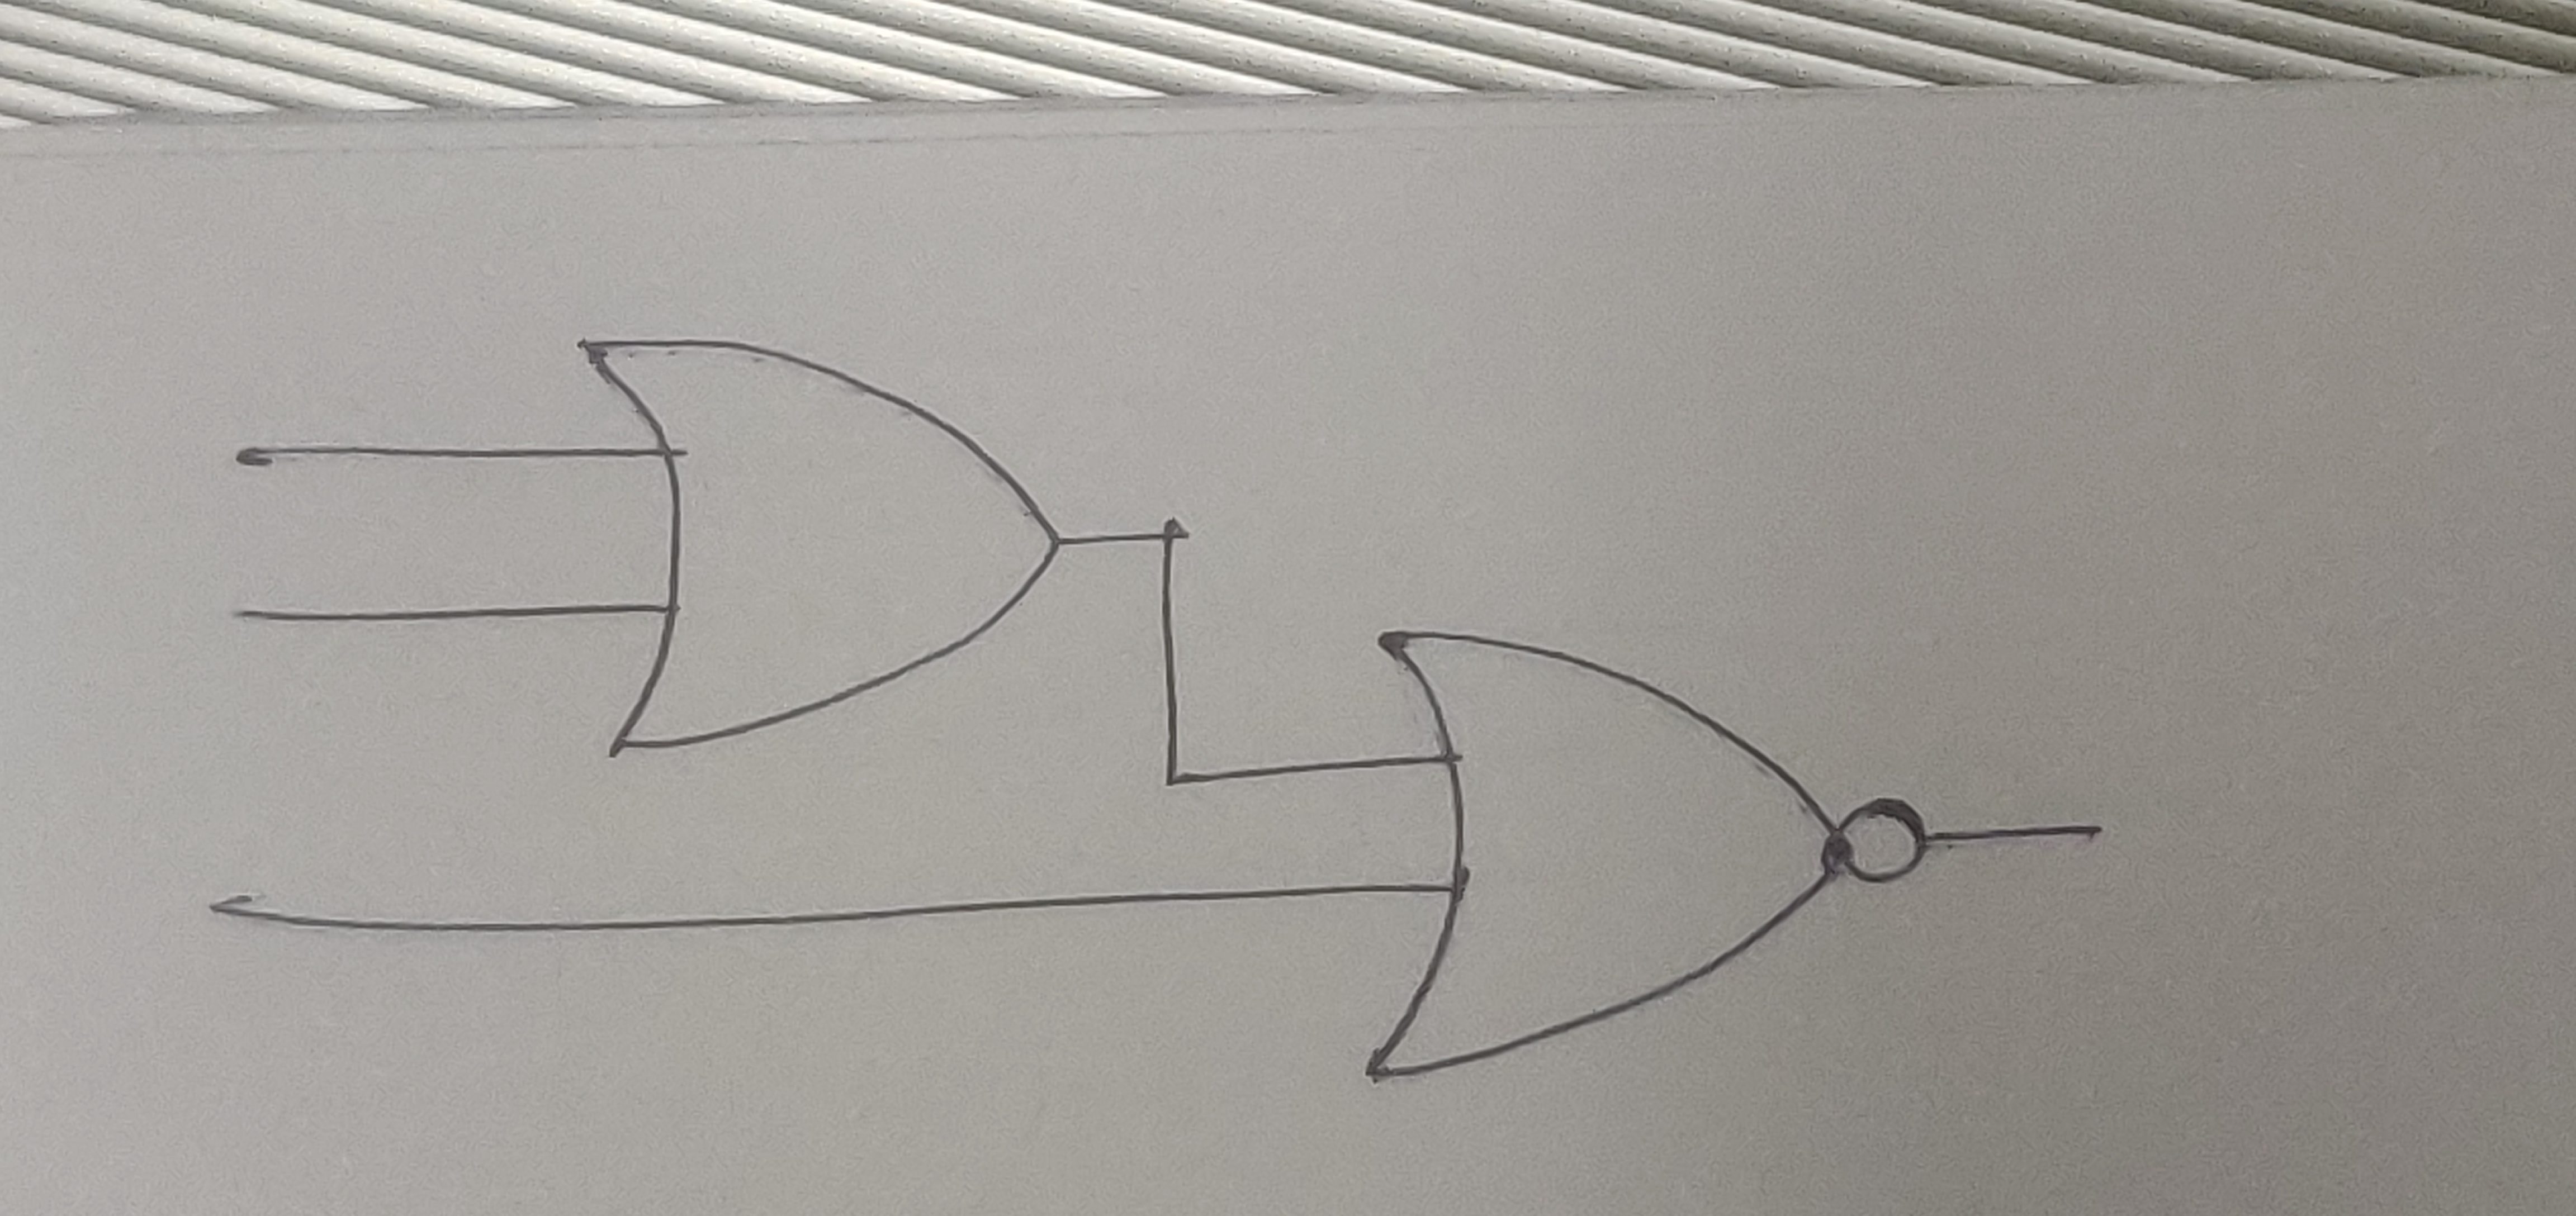not: (1840, 795, 1935, 891)
or: (1357, 615, 1847, 1091), (567, 332, 1065, 756)
